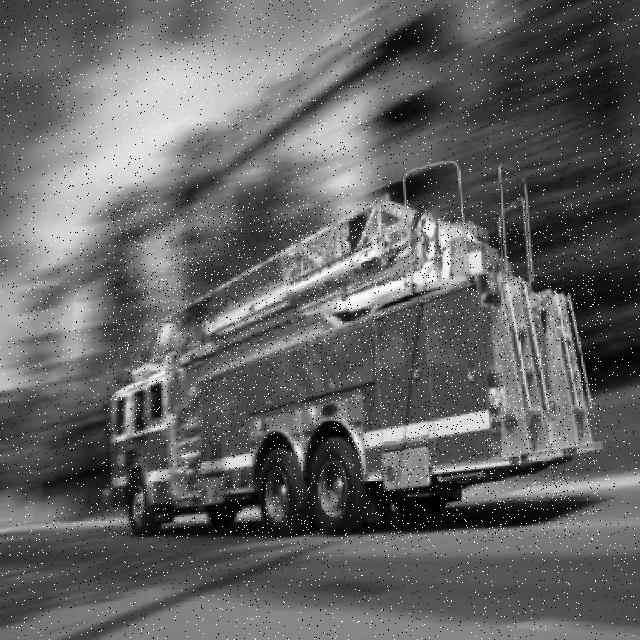Fire Truck: (106, 202, 601, 538)
